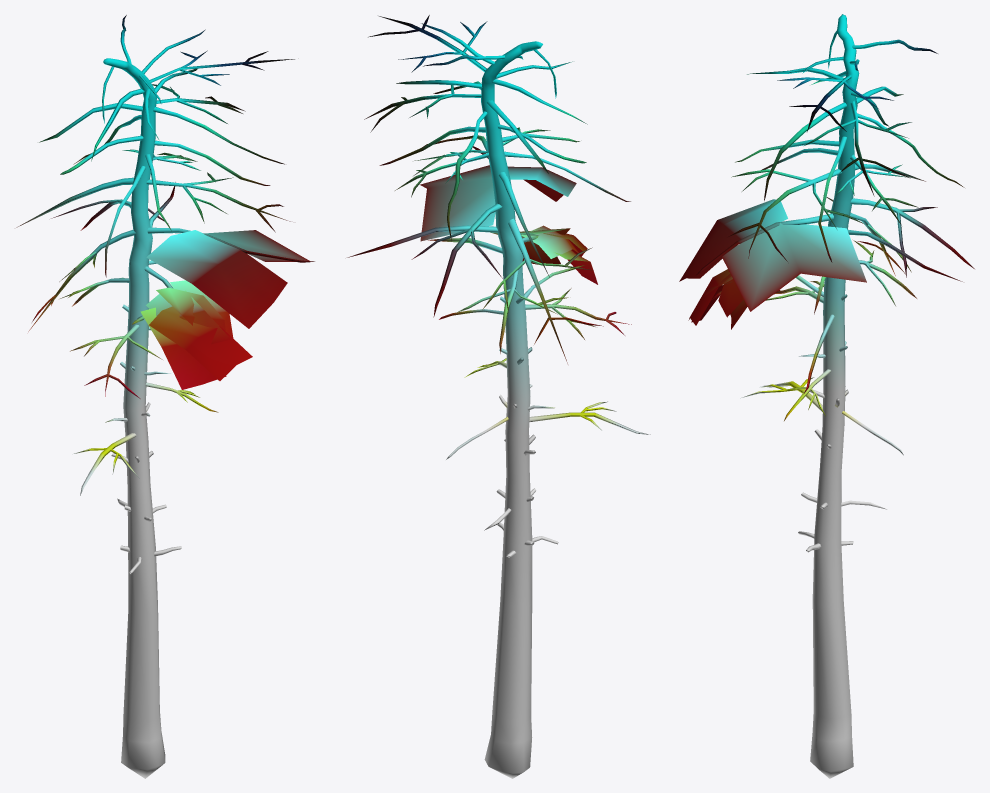
The model's file is arden_forest_pine_medium_02.fbx.
The picture shows the model from 3 angles, left to right: view 1: azimuth 30°, elevation 25°; view 2: azimuth 150°, elevation 25°; view 3: azimuth 270°, elevation 25°; orthographic projection. The views are drawn at different scales.
Parts seen in each view (by area): view 1: arden_forest_pine_medium_02; view 2: arden_forest_pine_medium_02; view 3: arden_forest_pine_medium_02.
Part boxes in pixels (<box>): arden_forest_pine_medium_02: <box>16,15,314,778</box>; arden_forest_pine_medium_02: <box>347,15,650,778</box>; arden_forest_pine_medium_02: <box>679,14,974,778</box>.
Size of the model in its own units: 3.54 by 3.61 by 10.05.
